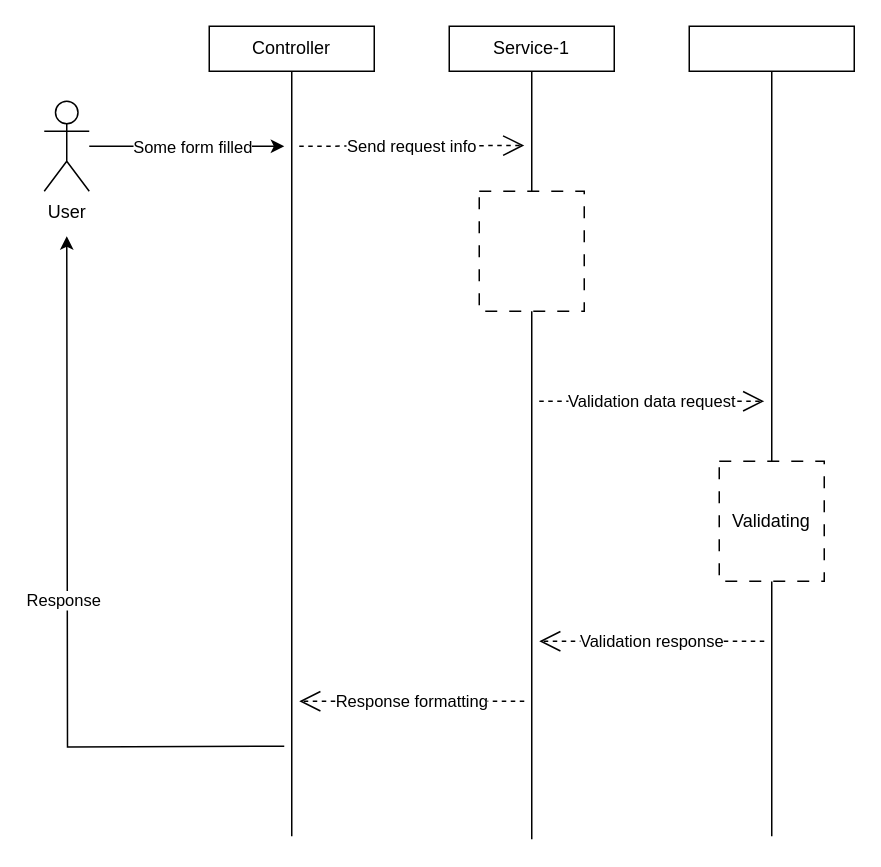
The diagram is 881 pixels wide and 867 high, and some of its shapes have lost their labels. The shapes that lost their labels are listed below. From the top down, each one's centre as x and y in pixels, then its label:
At point 771,48: "Service-2".
At point 531,250: "Processing".
